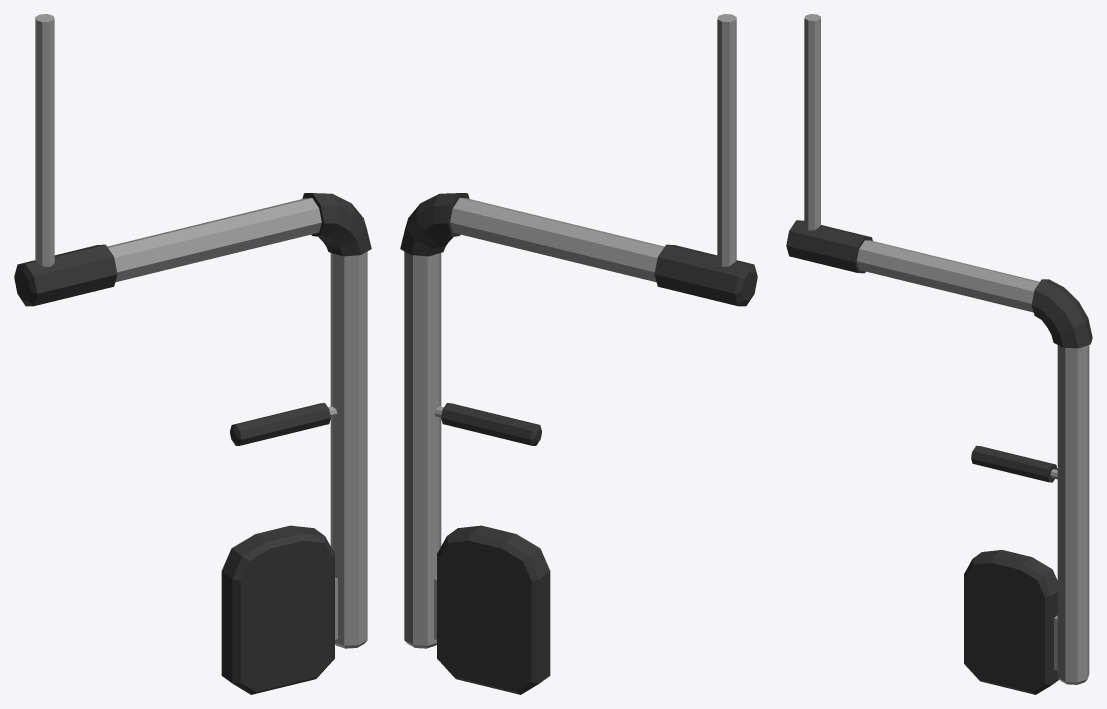
The model's file is pecdeck-ac-2.glb.
3 renders of one model, left to right at view 1: azimuth 30°, elevation 25°; view 2: azimuth 150°, elevation 25°; view 3: azimuth 330°, elevation 25°, orthographic. The views are drawn at different scales.
Parts seen in each view (by area): view 1: PecDeck_Ac_2; view 2: PecDeck_Ac_2; view 3: PecDeck_Ac_2.
Boxes of the visible parts, x1,y1,x2,y2 form: PecDeck_Ac_2: (14, 14, 371, 694); PecDeck_Ac_2: (400, 14, 757, 694); PecDeck_Ac_2: (786, 14, 1092, 694).
Bounding box in the file's own units: 52.18 × 104 × 6.17.
Materials: 1 (1 with a texture image).
